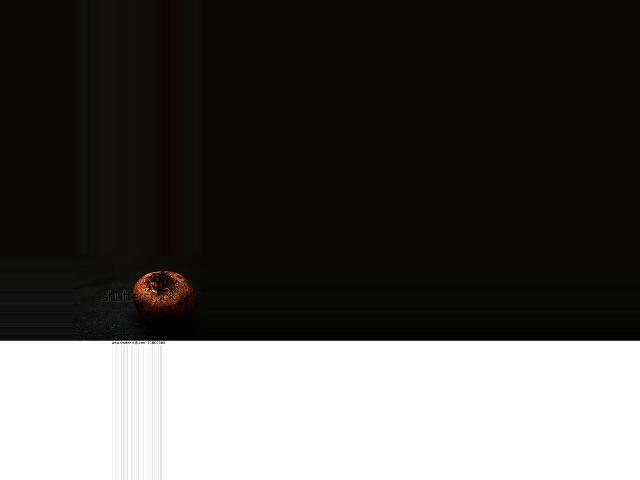beet: (133, 271, 198, 327)
